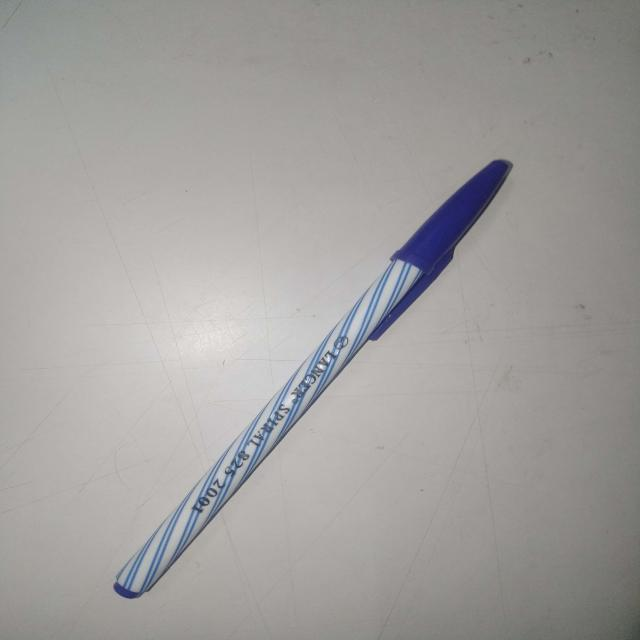pen_pencil: (64, 114, 544, 610)
